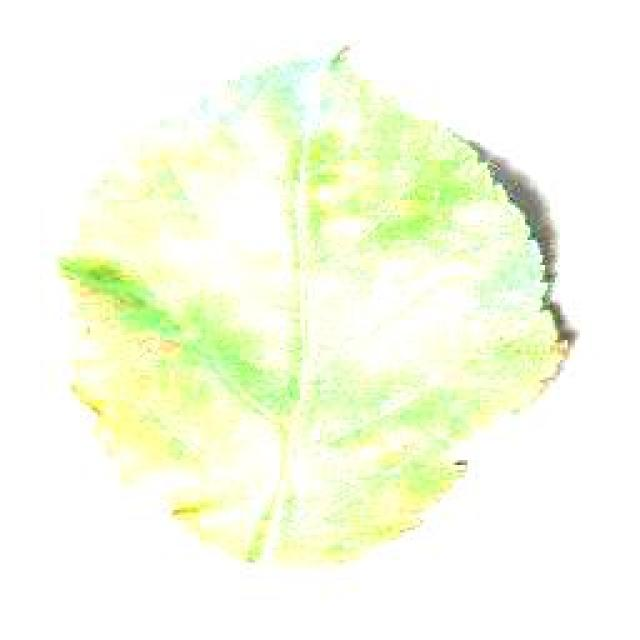apple rust disease: (55, 40, 577, 568)
